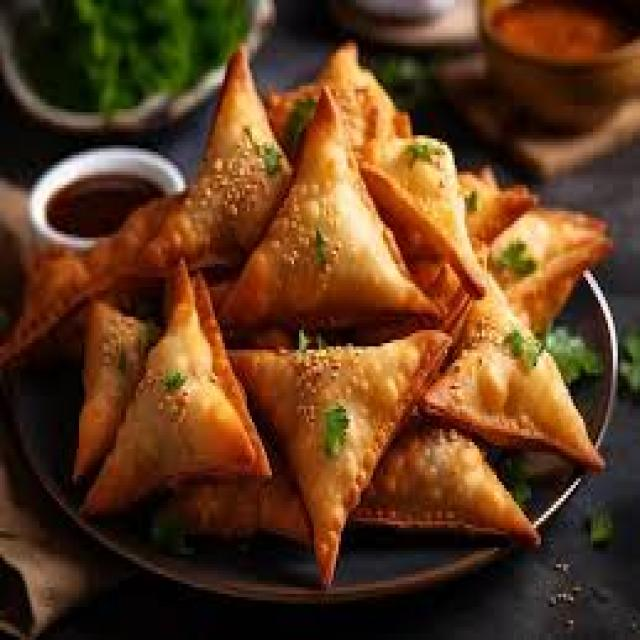SAMOSA: (243, 336, 454, 605), (220, 87, 435, 331), (82, 257, 263, 507), (425, 275, 608, 467), (148, 42, 291, 269), (361, 407, 534, 538)
